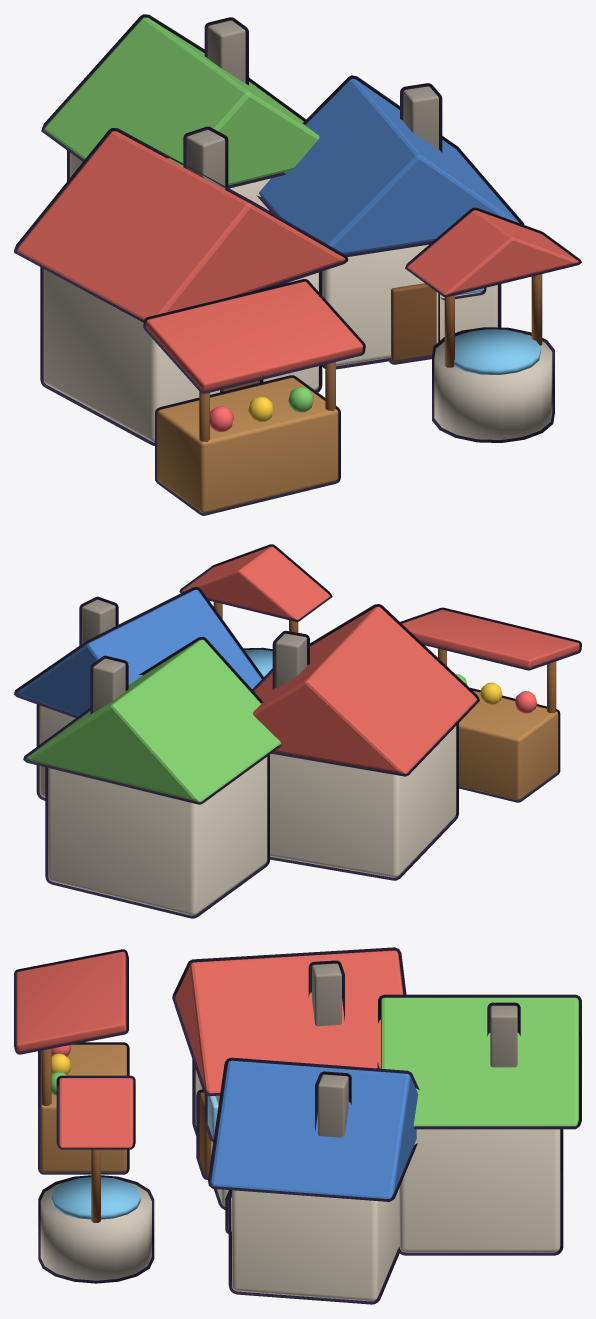
Rendered from village_2.glb.
3 renders of one model, top to bottom at view 1: azimuth 30°, elevation 25°; view 2: azimuth 150°, elevation 25°; view 3: azimuth 270°, elevation 25°, orthographic. The views are drawn at different scales.
Parts seen in each view (by area): view 1: cottage, cottage.001, cottage.002, box, box.001, well, wroof, water, post.003, post.002; view 2: cottage.002, cottage, cottage.001, box, wroof, box.001, post, water; view 3: cottage.002, cottage.001, cottage, box.001, well, wroof, box, water, post.003, post.001.
Boxes of the visible parts, left/top/right/bottom form: cottage: left=14, top=126, right=348, bottom=445; cottage.001: left=256, top=75, right=524, bottom=369; cottage.002: left=41, top=14, right=319, bottom=210; box: left=155, top=375, right=340, bottom=515; box.001: left=143, top=279, right=365, bottom=393; well: left=432, top=327, right=554, bottom=442; wroof: left=405, top=207, right=581, bottom=297; water: left=454, top=329, right=540, bottom=374; post.003: left=531, top=274, right=542, bottom=345; post.002: left=444, top=295, right=454, bottom=367; cottage.002: left=23, top=636, right=282, bottom=918; cottage: left=252, top=604, right=479, bottom=880; cottage.001: left=14, top=587, right=263, bottom=800; box: left=459, top=687, right=560, bottom=802; wroof: left=179, top=544, right=332, bottom=621; box.001: left=400, top=607, right=581, bottom=670; post: left=547, top=661, right=556, bottom=774; water: left=245, top=649, right=272, bottom=676; cottage.002: left=377, top=994, right=581, bottom=1255; cottage.001: left=208, top=1057, right=419, bottom=1304; cottage: left=172, top=947, right=406, bottom=1209; box.001: left=14, top=949, right=128, bottom=1054; well: left=38, top=1175, right=154, bottom=1283; wroof: left=56, top=1075, right=135, bottom=1149; box: left=38, top=1042, right=129, bottom=1174; water: left=51, top=1177, right=140, bottom=1219; post.003: left=91, top=1149, right=100, bottom=1222; post.001: left=41, top=1048, right=51, bottom=1172.
Size of the model in its own units: 3.99 by 2.05 by 4.59.
